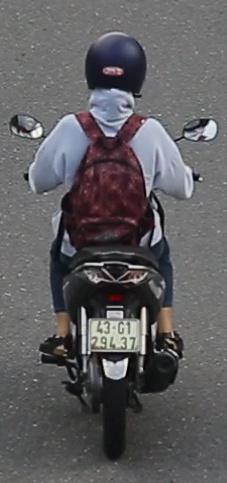LP: (88, 314, 144, 353)
helmet: (83, 28, 150, 110)
